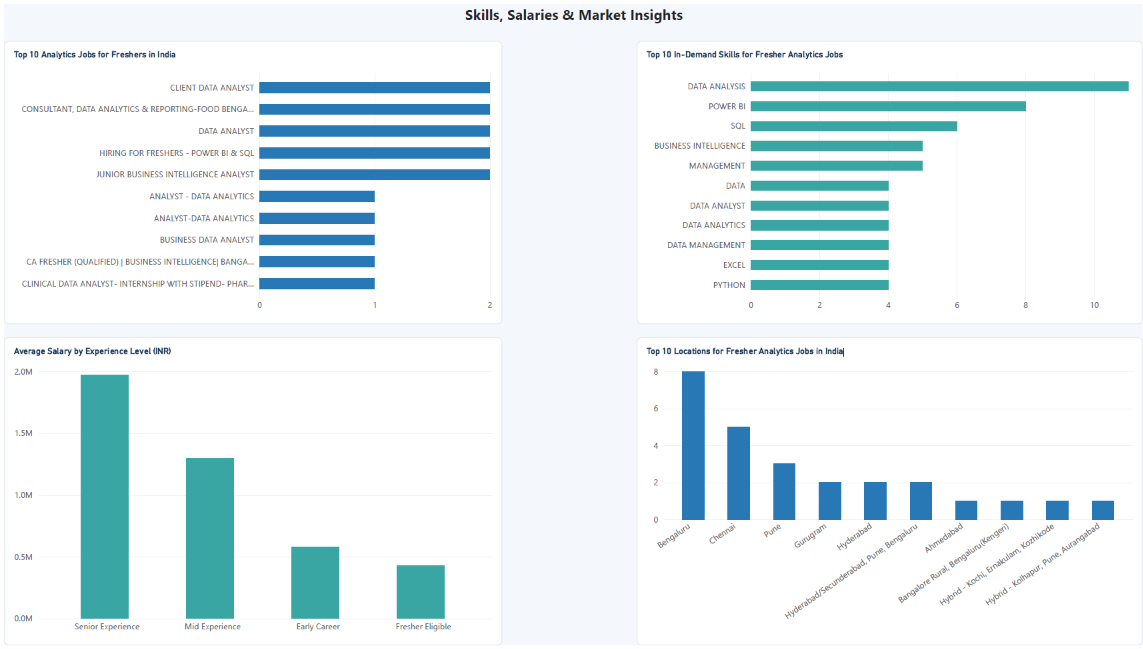

What the dashboard file says about the page in this screenshot:
{"tool":"powerbi","page":{"name":"Page 3","canvas":[1920,1080],"ordinal":2},"visuals":[{"type":"textbox","box":[711.5,0,496.1,62.4],"z":0},{"type":"clusteredBarChart","title":"Top 10 Analytics Jobs for Freshers in India","fields":{"Category":["Fresher_Top10.NORMALIZED_JOB_TITLE"],"Y":["Sum(Fresher_Top10.Posting_Count)"]},"box":[0,62.4,839.1,476.2],"z":1000},{"type":"clusteredColumnChart","title":"Average Salary by Experience Level (INR)","fields":{"Category":["Job Market.EXPERIENCE_CATEGORY"],"Y":["Avg(Job Market.SALARY_MIDPOINT)"]},"box":[0,561.3,839.1,518.7],"z":2000},{"type":"clusteredBarChart","title":"Top 10 In-Demand Skills for Fresher Analytics Jobs","fields":{"Category":["Job Skills.SKILL"],"Y":["Job Skills.Fresher Skill Postings"]},"box":[1065.8,62.4,853.2,476.2],"z":3000},{"type":"clusteredColumnChart","title":"Top 10 Locations for Fresher Analytics Jobs in India","fields":{"Category":["Fresher_Locations.LOCATION"],"Y":["Sum(Fresher_Locations.Posting_Count)"]},"box":[1065.8,561.3,853.2,518.7],"z":4000}]}

Visuals, with their boxes in screenshot pixels (x1, y1, x2, y2), scaled from the page's 1920x1080 canvas onto the 1143x649 screenshot:
textbox: rect(424, 0, 719, 37)
"Top 10 Analytics Jobs for Freshers in India" clusteredBarChart: rect(0, 37, 500, 324)
"Average Salary by Experience Level (INR)" clusteredColumnChart: rect(0, 337, 500, 648)
"Top 10 In-Demand Skills for Fresher Analytics Jobs" clusteredBarChart: rect(634, 37, 1142, 324)
"Top 10 Locations for Fresher Analytics Jobs in India" clusteredColumnChart: rect(634, 337, 1142, 648)
